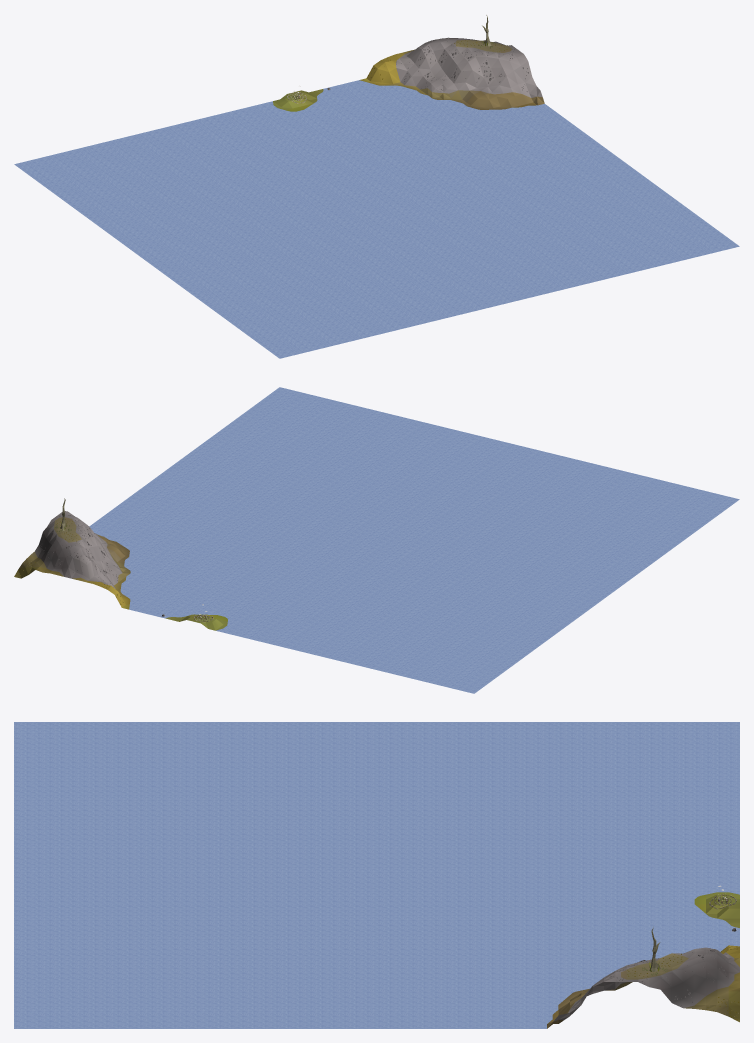
3 views of the same model, one above another, from view 1: azimuth 30°, elevation 25°; view 2: azimuth 150°, elevation 25°; view 3: azimuth 270°, elevation 25° (orthographic). The views are drawn at different scales.
Parts seen in each view (by area): view 1: region_0_0_8495; view 2: region_0_0_8495; view 3: region_0_0_8495.
Boxes of the visible parts, bbox=[...] form: region_0_0_8495: bbox=[14, 15, 739, 358]; region_0_0_8495: bbox=[14, 387, 739, 693]; region_0_0_8495: bbox=[14, 722, 739, 1028].
Size of the model in its own units: 64 by 8.72 by 64.
2 materials, 1 textured.
